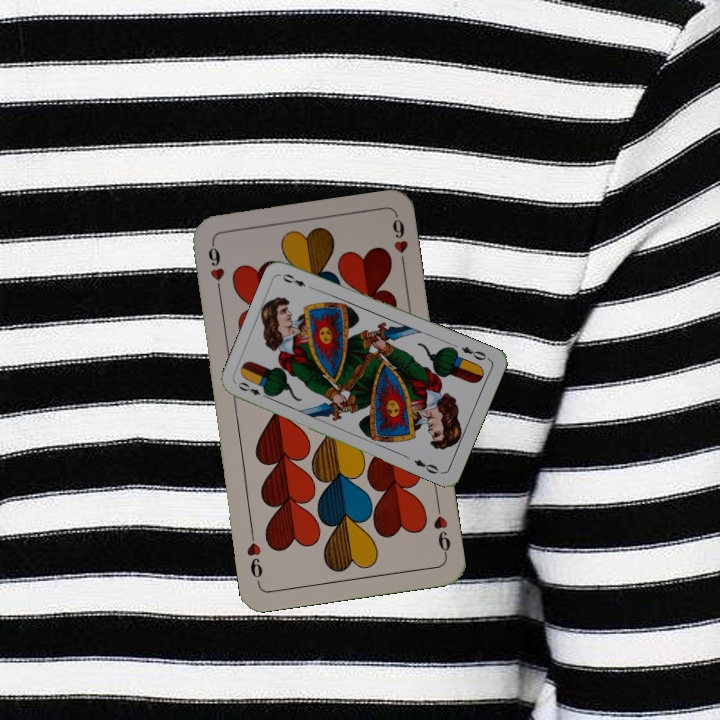EO: (234, 378, 272, 401), (457, 342, 492, 363)
H9: (429, 500, 453, 559), (204, 240, 227, 299)
